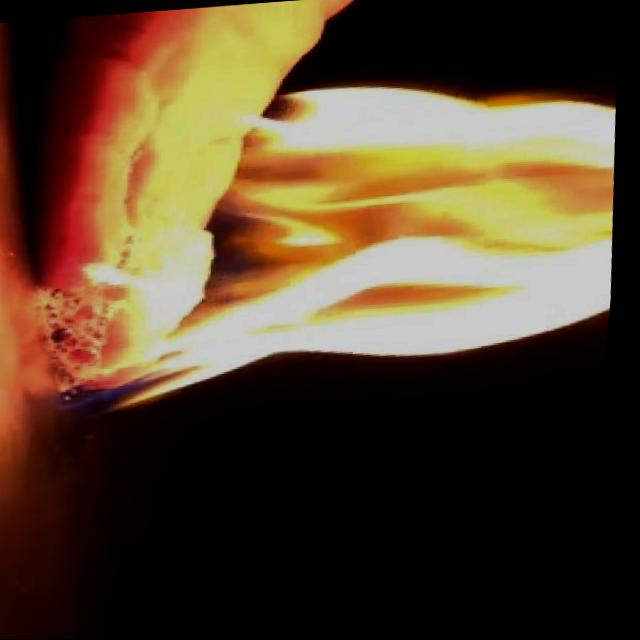Fire: (46, 49, 636, 425)
